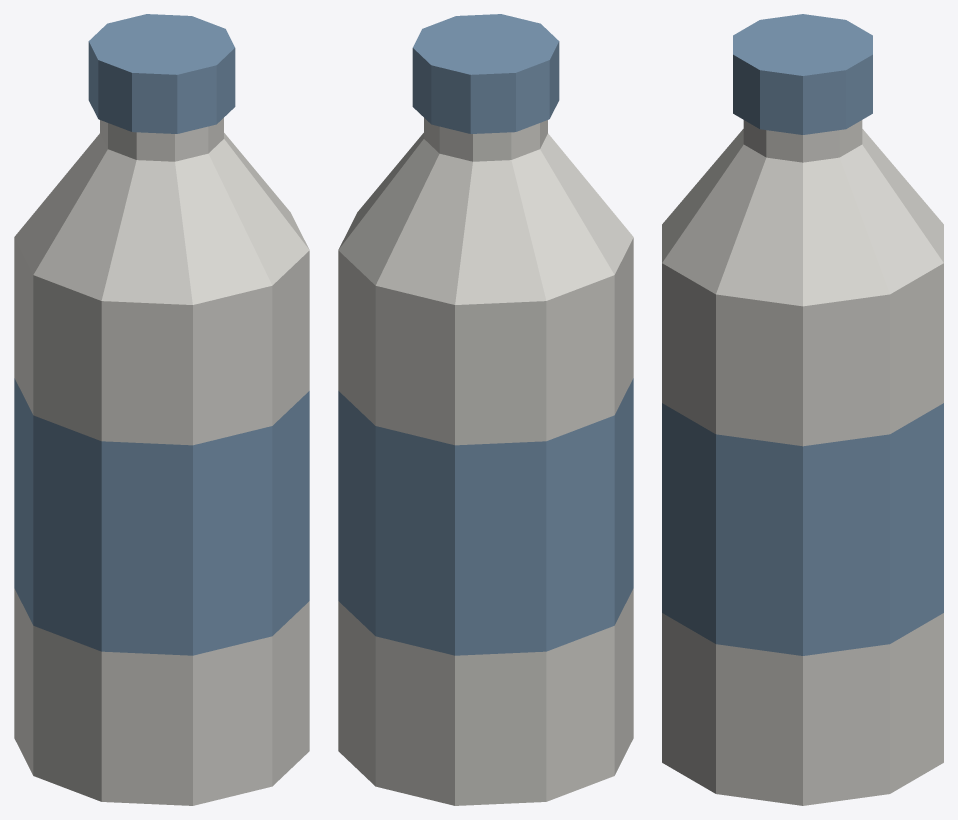
Rendered from bleach.glb.
The picture shows the model from 3 angles, left to right: view 1: azimuth 30°, elevation 25°; view 2: azimuth 150°, elevation 25°; view 3: azimuth 270°, elevation 25°; orthographic projection.
Visible parts, largest first — view 1: NC_bleach; view 2: NC_bleach; view 3: NC_bleach.
Boxes of the visible parts, x1,y1,x2,y2 form: NC_bleach: [14, 14, 309, 805]; NC_bleach: [338, 14, 633, 805]; NC_bleach: [662, 14, 943, 805].
Bounding box in the file's own units: 0.1 × 0.26 × 0.0951.
